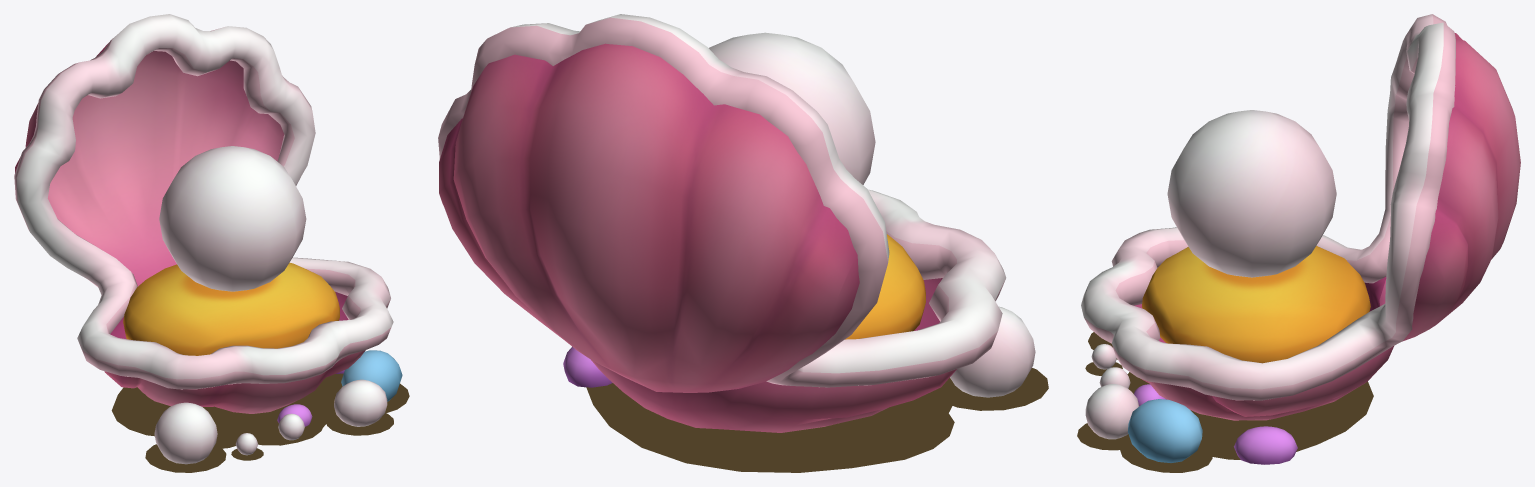
The model's file is Mu_Mussel.fbx.
3 renders of one model, left to right at view 1: azimuth 30°, elevation 25°; view 2: azimuth 150°, elevation 25°; view 3: azimuth 270°, elevation 25°, orthographic. The views are drawn at different scales.
Parts seen in each view (by area): view 1: Mu_Mussel_a, Mu_Mussel_b, Mu_Mussel_c, Mu_Mussel_shadow; view 2: Mu_Mussel_a, Mu_Mussel_shadow, Mu_Mussel_b, Mu_Mussel_c; view 3: Mu_Mussel_a, Mu_Mussel_b, Mu_Mussel_c, Mu_Mussel_shadow.
Boxes of the visible parts, x1=… form: Mu_Mussel_a: x1=14, y1=14, x2=393, y2=413; Mu_Mussel_b: x1=159, y1=146, x2=306, y2=291; Mu_Mussel_c: x1=154, y1=350, x2=402, y2=464; Mu_Mussel_shadow: x1=111, y1=373, x2=409, y2=472; Mu_Mussel_a: x1=438, y1=14, x2=1006, y2=432; Mu_Mussel_shadow: x1=586, y1=368, x2=1048, y2=472; Mu_Mussel_b: x1=709, y1=32, x2=875, y2=184; Mu_Mussel_c: x1=563, y1=306, x2=1035, y2=397; Mu_Mussel_a: x1=1081, y1=14, x2=1520, y2=420; Mu_Mussel_b: x1=1167, y1=110, x2=1336, y2=277; Mu_Mussel_c: x1=1085, y1=344, x2=1297, y2=464; Mu_Mussel_shadow: x1=1077, y1=332, x2=1373, y2=472.
Bounding box in the file's own units: 222 × 232 × 250.
2 materials, 1 textured.
